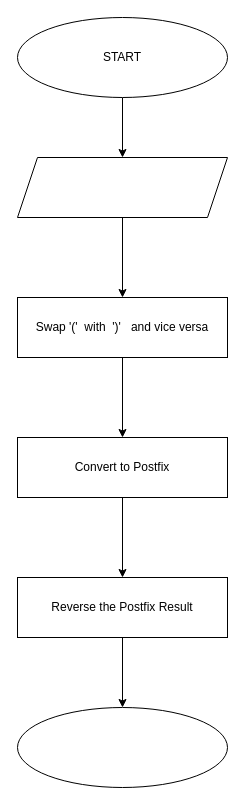
This 245x805 diagram has some shape labels left out. The centre of each missing label's shape, as x and y in pixels:
"END" goes at [122,747].
"Read Infix Expression" goes at [122,187].
